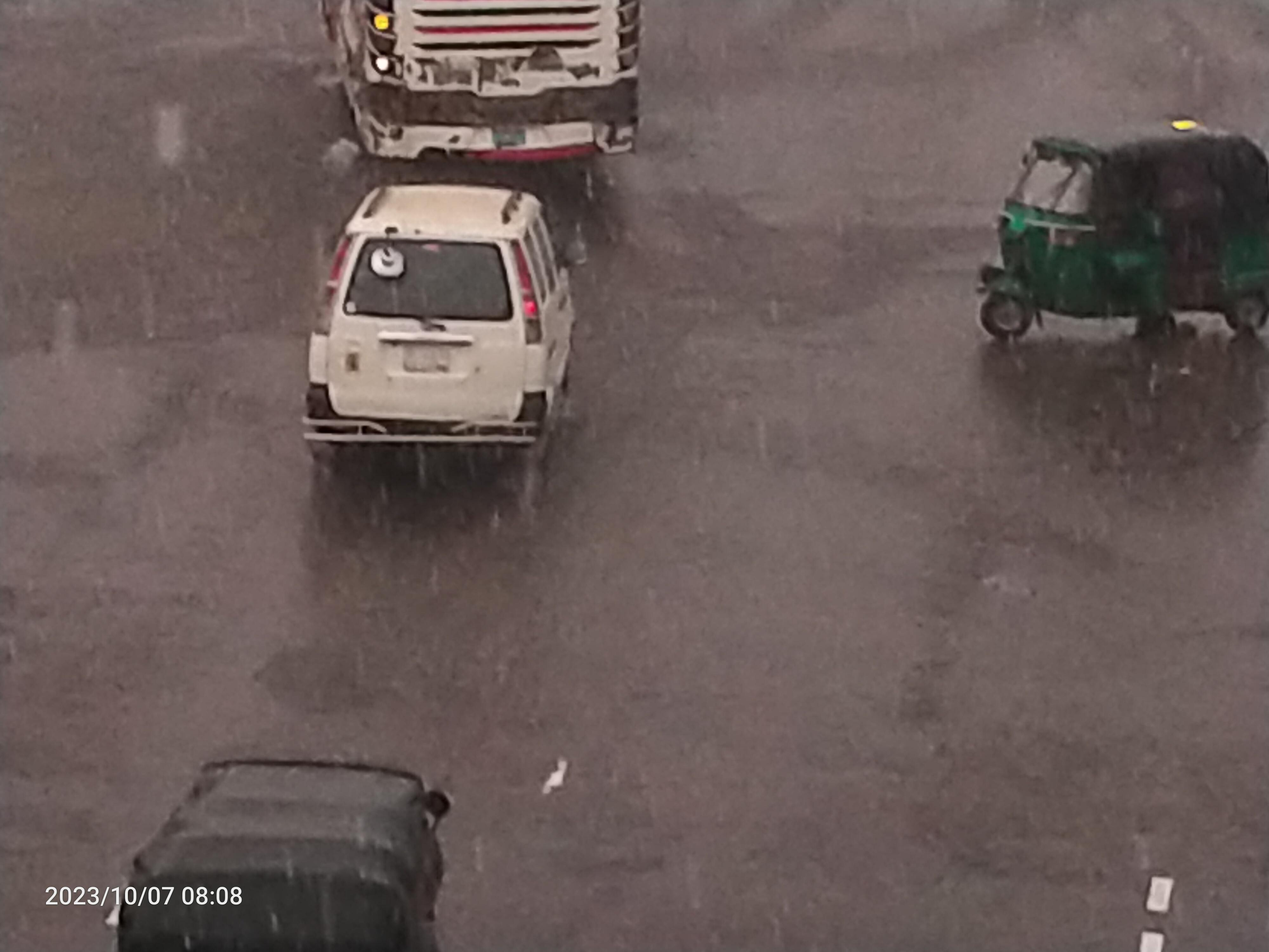Bus: (296, 0, 675, 182)
Car: (249, 149, 613, 529)
